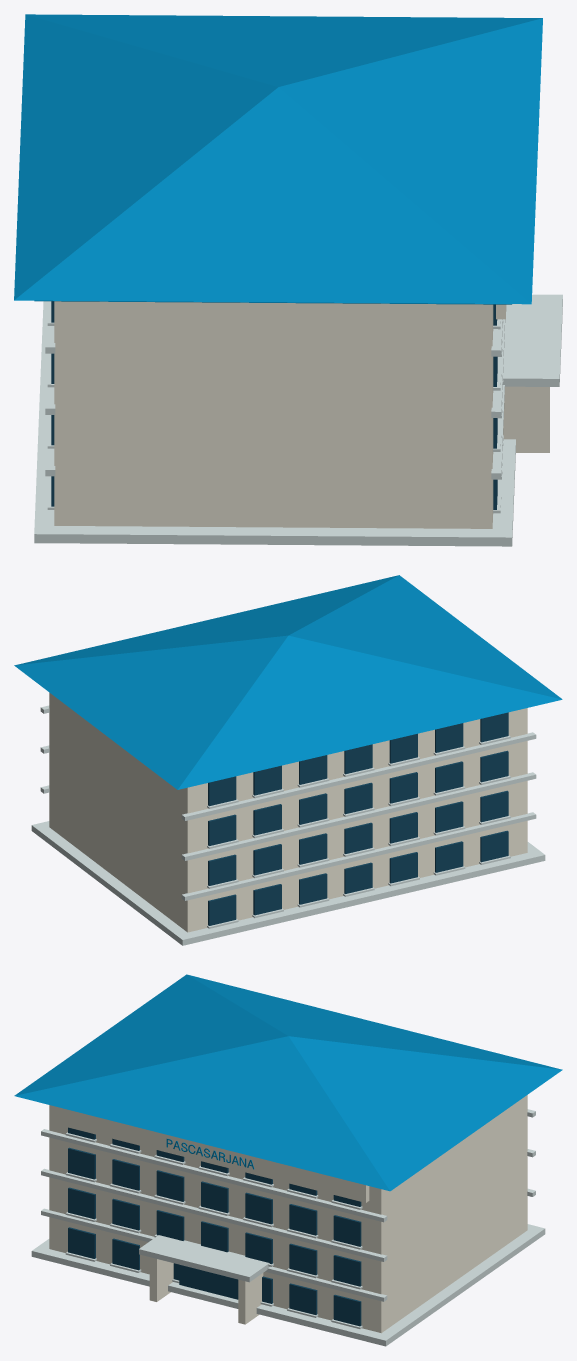
The model's file is pascasarjana.glb.
The picture shows the model from 3 angles, top to bottom: view 1: azimuth 30°, elevation 25°; view 2: azimuth 150°, elevation 25°; view 3: azimuth 270°, elevation 25°; orthographic projection. The views are drawn at different scales.
Parts seen in each view (by area): view 1: Pascasarjana_blue, Pascasarjana_ivory, Pascasarjana_trim, Pascasarjana_glass; view 2: Pascasarjana_blue, Pascasarjana_ivory, Pascasarjana_glass, Pascasarjana_trim; view 3: Pascasarjana_blue, Pascasarjana_ivory, Pascasarjana_trim, Pascasarjana_glass.
Boxes of the visible parts, x1=… form: Pascasarjana_blue: x1=14, y1=14, x2=542, y2=304; Pascasarjana_ivory: x1=54, y1=301, x2=549, y2=528; Pascasarjana_trim: x1=34, y1=294, x2=562, y2=546; Pascasarjana_glass: x1=51, y1=301, x2=497, y2=509; Pascasarjana_blue: x1=14, y1=575, x2=562, y2=789; Pascasarjana_ivory: x1=49, y1=692, x2=527, y2=932; Pascasarjana_glass: x1=208, y1=712, x2=508, y2=925; Pascasarjana_trim: x1=31, y1=705, x2=545, y2=945; Pascasarjana_blue: x1=14, y1=974, x2=562, y2=1191; Pascasarjana_ivory: x1=49, y1=1095, x2=527, y2=1333; Pascasarjana_trim: x1=31, y1=1109, x2=545, y2=1346; Pascasarjana_glass: x1=68, y1=1127, x2=361, y2=1326.
Size of the model in its own units: 39.79 by 18.15 by 42.53.
